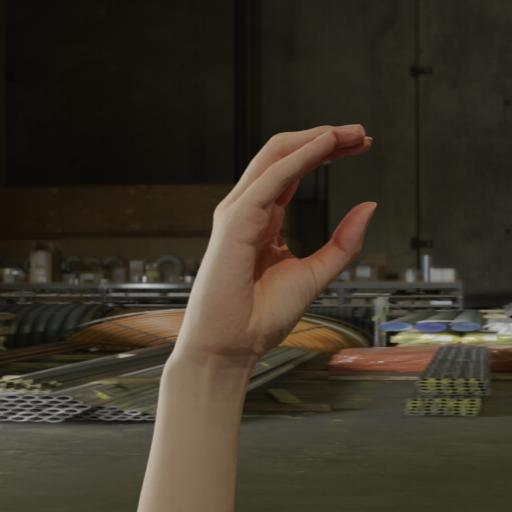C: (170, 112, 387, 360)
